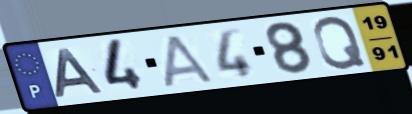4: (102, 37, 151, 95), (214, 27, 257, 81)
8: (264, 20, 315, 76)
A: (162, 32, 217, 89), (53, 46, 108, 100)
Q: (311, 14, 369, 71)
